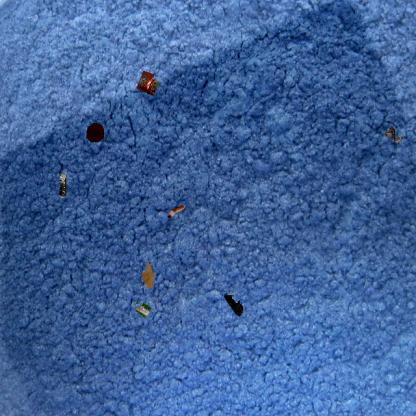dirty: (133, 68, 162, 98), (221, 291, 245, 317), (132, 298, 154, 320), (382, 125, 404, 144), (166, 202, 186, 221), (57, 172, 69, 198)
liquid: (140, 262, 155, 289), (86, 122, 104, 142)
